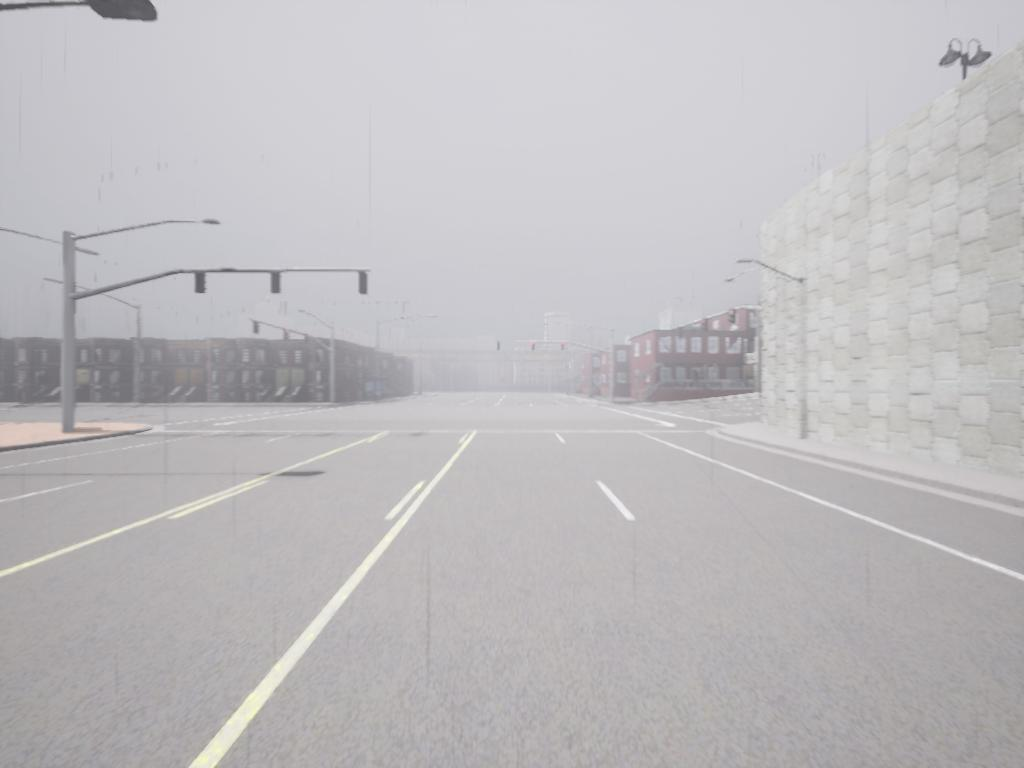traffic_light: (356, 270, 373, 299), (195, 269, 208, 298), (270, 270, 282, 298), (729, 307, 738, 327), (703, 318, 711, 336), (253, 321, 261, 337), (283, 330, 291, 345), (678, 328, 685, 343), (303, 334, 310, 347), (497, 342, 503, 353), (532, 342, 537, 353), (562, 341, 566, 354)
